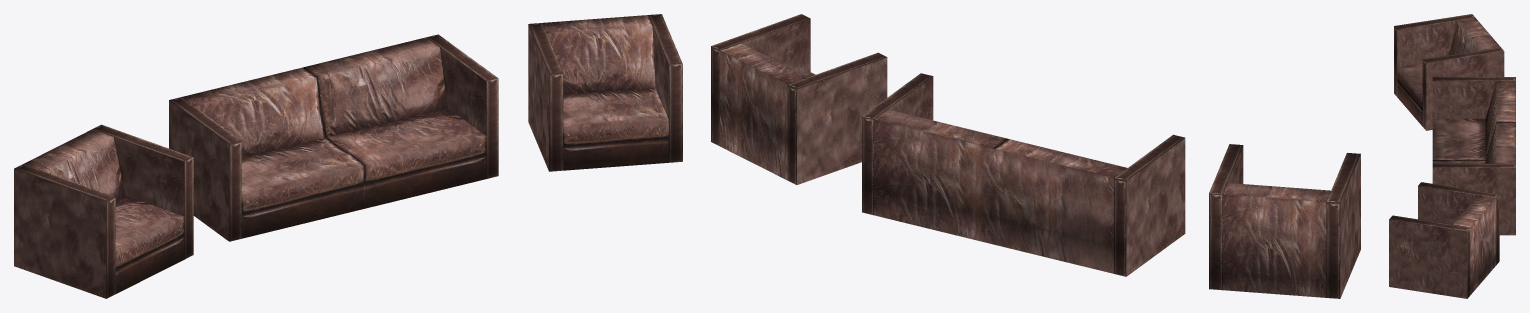
File: SOFA&ARMCHAIRS.FBX
3 renders of one model, left to right at view 1: azimuth 30°, elevation 25°; view 2: azimuth 150°, elevation 25°; view 3: azimuth 270°, elevation 25°, orthographic. The views are drawn at different scales.
Parts seen in each view (by area): view 1: SOFA, ARMCHAIR1, ARMCHAIR2; view 2: SOFA, ARMCHAIR2, ARMCHAIR1; view 3: ARMCHAIR2, SOFA, ARMCHAIR1.
Part boxes in pixels (box(x1,y1,x2,y2)): SOFA: box(169, 34, 498, 241); ARMCHAIR1: box(14, 124, 193, 298); ARMCHAIR2: box(528, 14, 682, 171); SOFA: box(862, 73, 1185, 276); ARMCHAIR2: box(711, 14, 887, 184); ARMCHAIR1: box(1209, 144, 1360, 298); ARMCHAIR2: box(1389, 182, 1499, 298); SOFA: box(1432, 77, 1515, 235); ARMCHAIR1: box(1394, 14, 1504, 130).
Bounding box in the file's own units: 5.04 × 0.7309 × 1.24.
